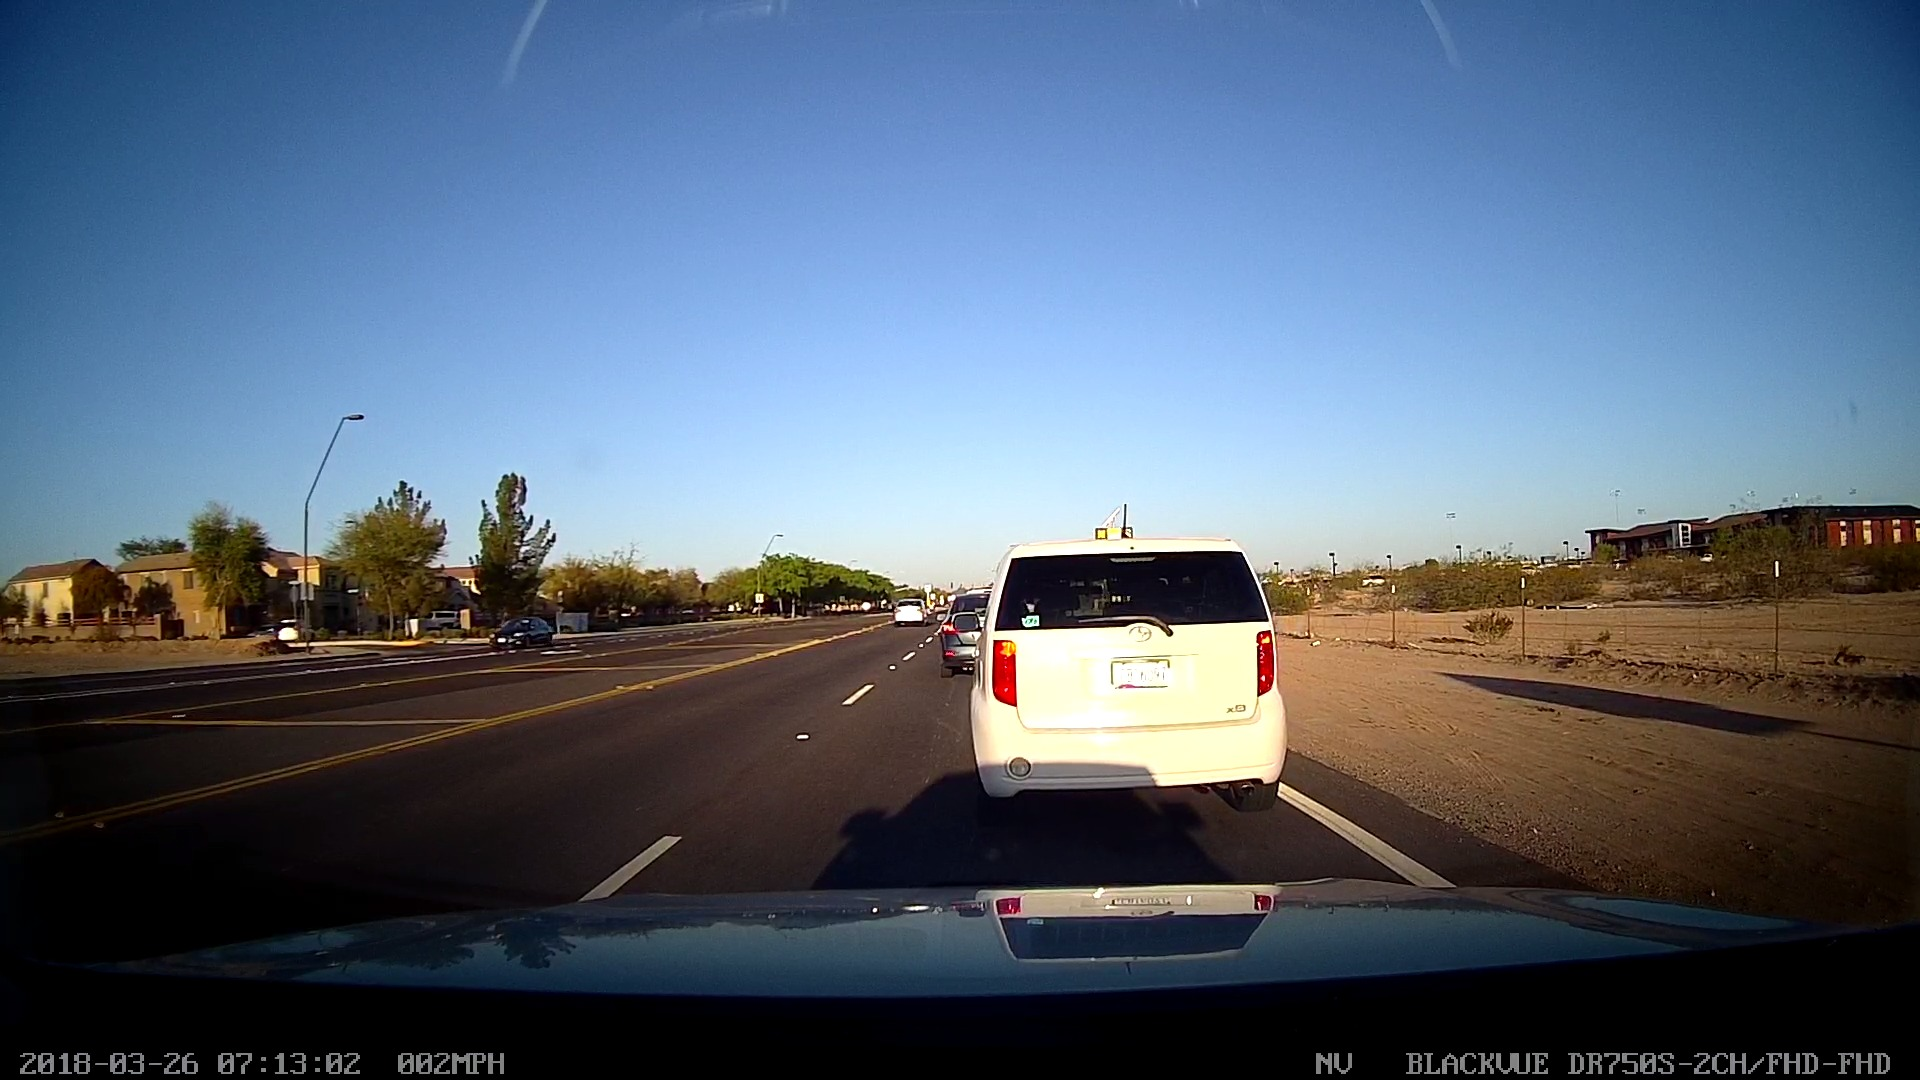plate: (1103, 651, 1176, 695)
vehicle: (962, 532, 1302, 835), (472, 604, 564, 658), (938, 578, 984, 683), (883, 588, 935, 630)
